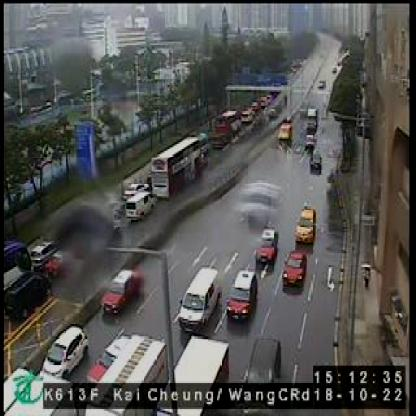Bus: (150, 135, 201, 201), (216, 109, 240, 147)
Car: (179, 267, 221, 332), (3, 271, 52, 323), (43, 326, 89, 379), (100, 267, 142, 316), (245, 334, 283, 385), (226, 268, 259, 326), (125, 189, 158, 223), (283, 249, 309, 292), (254, 229, 280, 266), (30, 242, 61, 271), (297, 202, 318, 244), (122, 181, 150, 201), (277, 121, 295, 149), (305, 101, 322, 128), (310, 152, 324, 176), (242, 108, 255, 126), (304, 134, 317, 151), (318, 78, 327, 90)
Truck: (82, 335, 167, 416), (154, 336, 230, 416)
